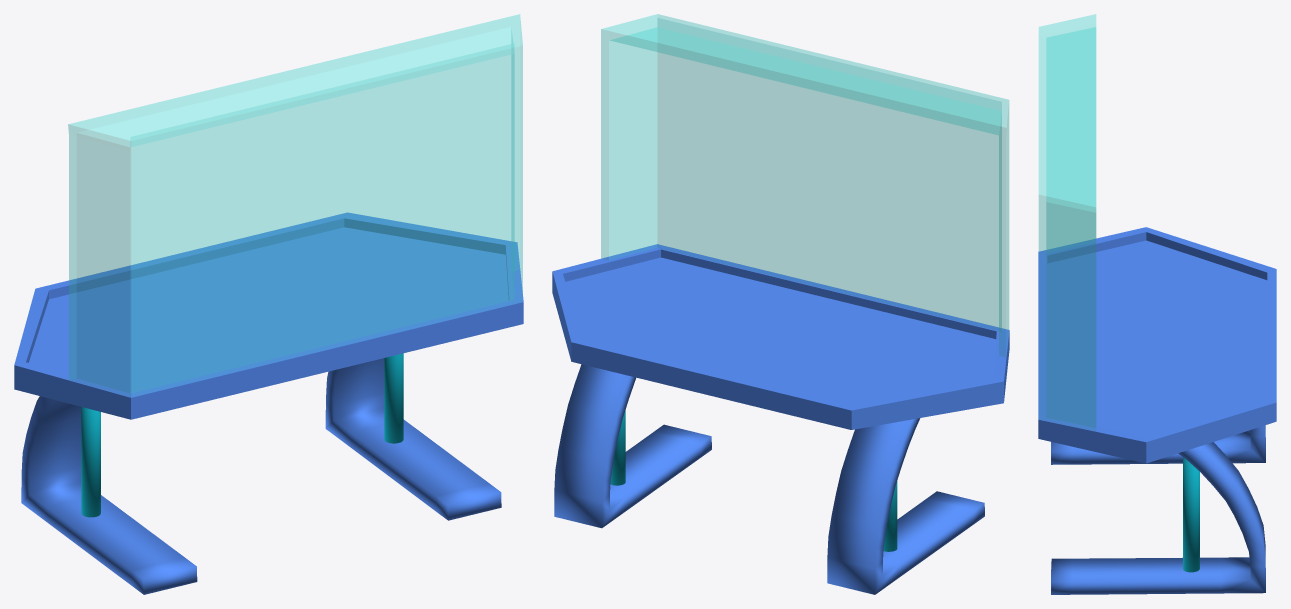
The model's file is table_tier14.fbx.
3 views of the same model, side by side, from view 1: azimuth 30°, elevation 25°; view 2: azimuth 150°, elevation 25°; view 3: azimuth 270°, elevation 25° (orthographic). The views are drawn at different scales.
Visible parts, largest first — view 1: Cube, Cube.002, Plane.002, Plane.001, Cylinder, Cylinder.001; view 2: Cube, Cube.002, Plane.002, Plane.001, Cylinder.001, Cylinder; view 3: Cube.002, Cube, Plane.001, Plane.002, Cylinder.001.
Part boxes in pixels (x1=…): Cube: x1=68, y1=14, x2=522, y2=397; Cube.002: x1=14, y1=212, x2=523, y2=419; Plane.002: x1=21, y1=396, x2=197, y2=594; Plane.001: x1=325, y1=358, x2=501, y2=520; Cylinder: x1=81, y1=407, x2=100, y2=517; Cylinder.001: x1=384, y1=353, x2=403, y2=443; Cube: x1=601, y1=14, x2=1008, y2=356; Cube.002: x1=552, y1=244, x2=1009, y2=429; Plane.002: x1=827, y1=418, x2=984, y2=594; Plane.001: x1=554, y1=364, x2=711, y2=528; Cylinder.001: x1=610, y1=410, x2=625, y2=485; Cylinder: x1=883, y1=481, x2=897, y2=551; Cube.002: x1=1038, y1=227, x2=1276, y2=463; Cube: x1=1039, y1=14, x2=1096, y2=431; Plane.001: x1=1051, y1=442, x2=1265, y2=594; Plane.002: x1=1051, y1=425, x2=1265, y2=464; Cylinder.001: x1=1183, y1=457, x2=1199, y2=572.
Size of the model in its own units: 232 by 204 by 109.
